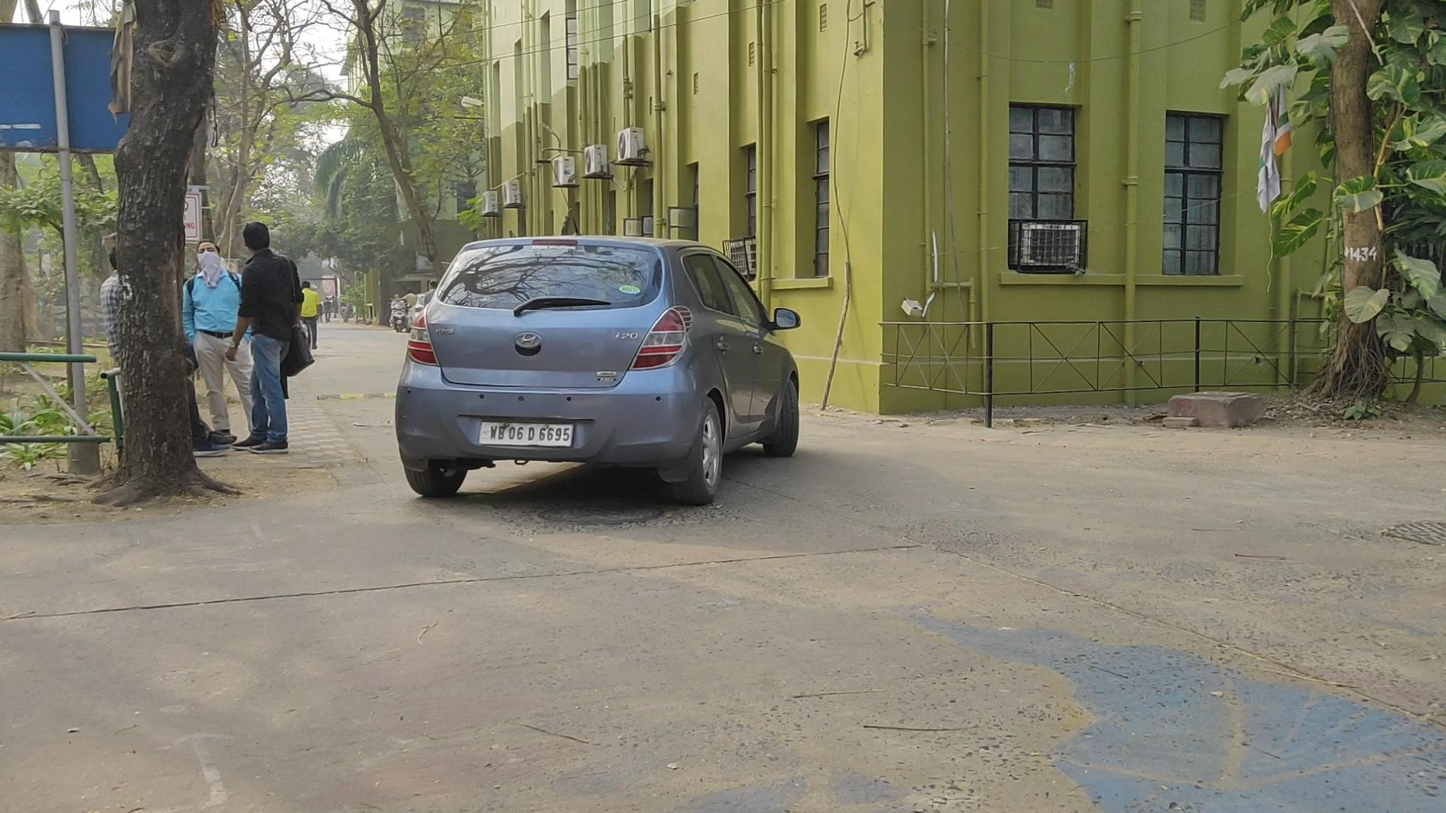bike: (389, 293, 409, 333)
car: (397, 235, 801, 508)
